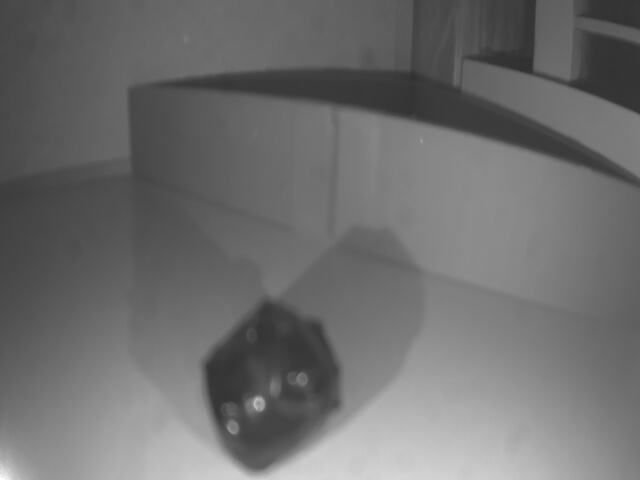Green: (125, 86, 640, 330)
